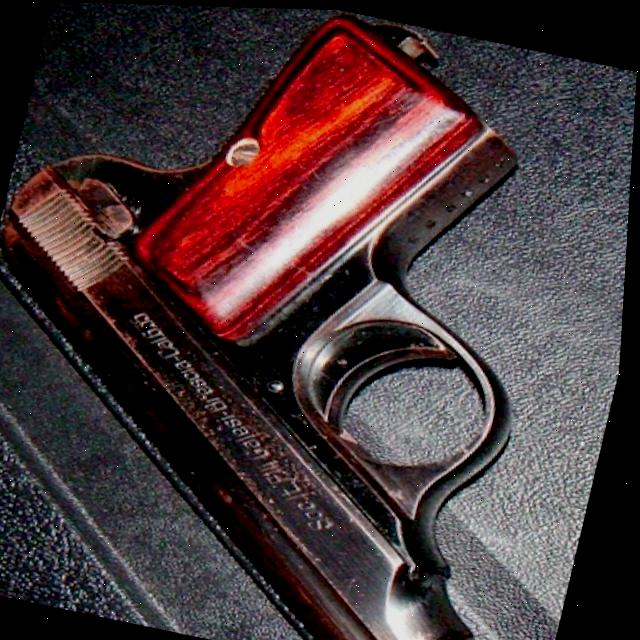pistol: (0, 0, 625, 640)
